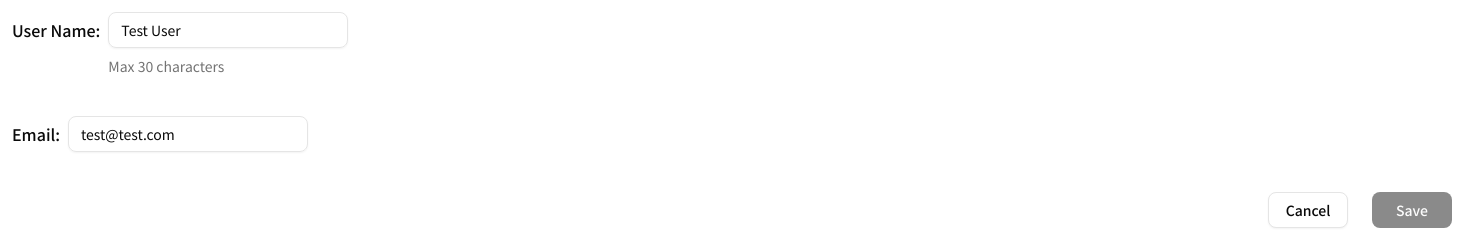
Test: AccountInfoEditFormコンポーネントのテストコード › Saveボタンの活性・非活性の制御 › ユーザー名またはメールアドレスが編集された場合、Saveボタンが活性化されること
Type "a" into the field labelled "User Name:" at (228, 30), box [108, 12, 348, 48]
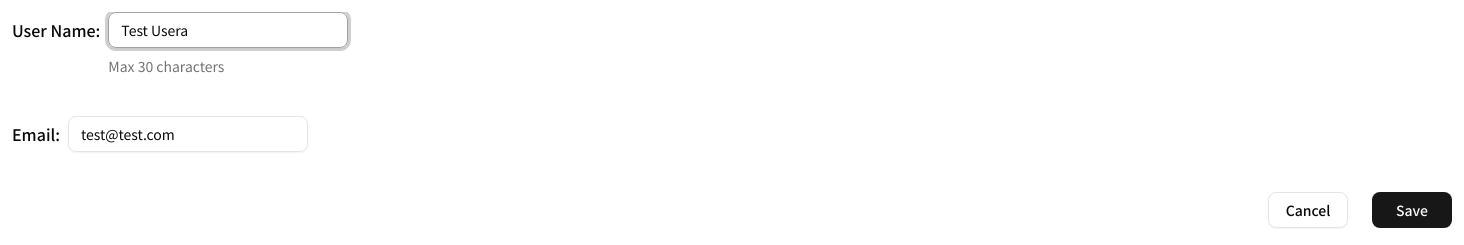
Now the button "Save" is enabled, box [1372, 192, 1452, 228]
Replace the text in the field labelled "User Name:" with "Test User" at (228, 30), box [108, 12, 348, 48]
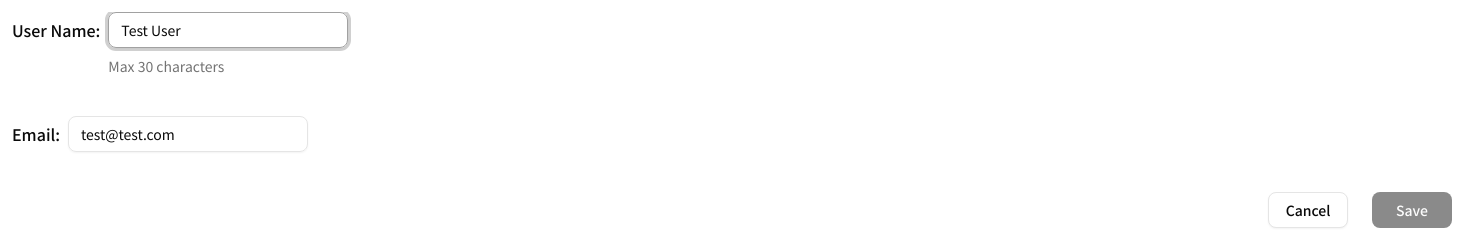
Now the button "Save" is disabled, box [1372, 192, 1452, 228]
Type "a" into the field labelled "Email:" at (188, 134), box [68, 116, 308, 152]
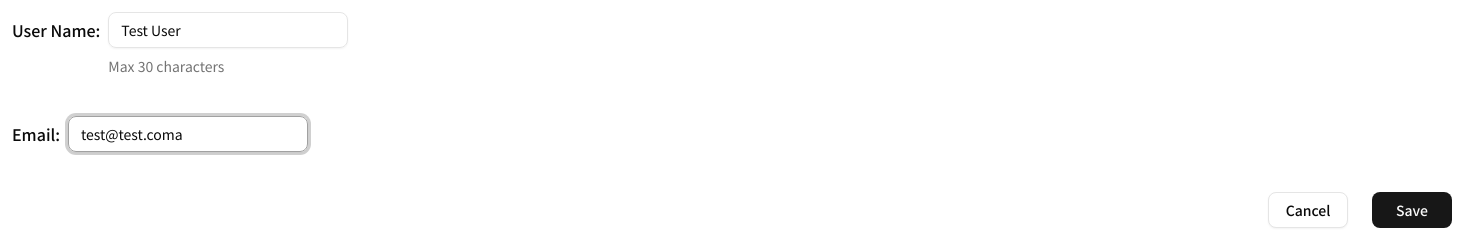
Now the button "Save" is enabled, box [1372, 192, 1452, 228]
Replace the text in the field labelled "Email:" with "test@test.com" at (188, 134), box [68, 116, 308, 152]
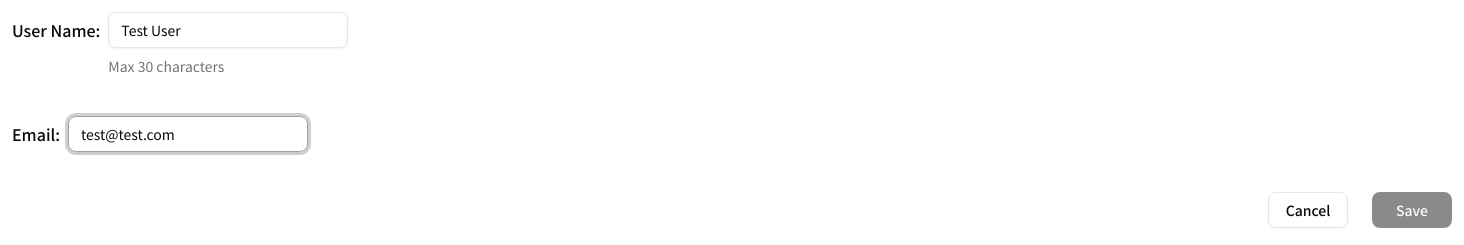
Now the button "Save" is disabled, box [1372, 192, 1452, 228]
